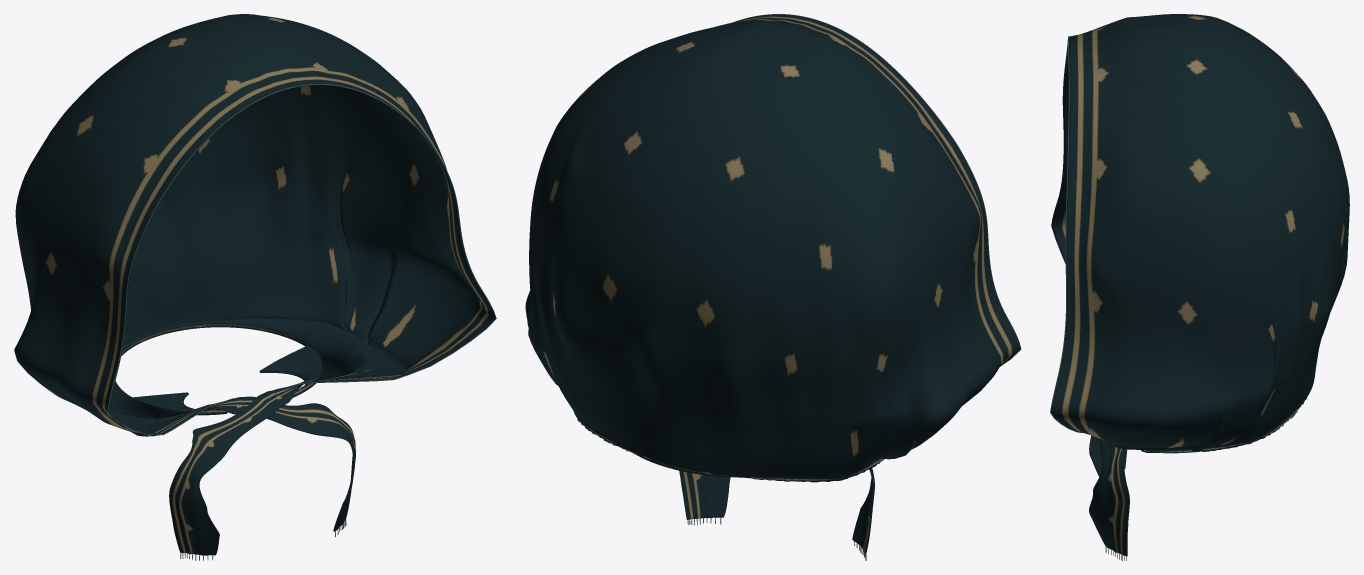
File: Feminine-side-sweep-bandeau-pashmina249-headgear.glb
3 views of the same model, side by side, from view 1: azimuth 30°, elevation 25°; view 2: azimuth 150°, elevation 25°; view 3: azimuth 270°, elevation 25° (orthographic). The views are drawn at different scales.
Parts seen in each view (by area): view 1: 226 headgear / Headwear / continuous woven pashmina239, 226 headgear / Headwear / face edge239; view 2: 226 headgear / Headwear / continuous woven pashmina239, 226 headgear / Headwear / face edge239; view 3: 226 headgear / Headwear / continuous woven pashmina239, 226 headgear / Headwear / face edge239.
Boxes of the visible parts, x1=… form: 226 headgear / Headwear / continuous woven pashmina239: x1=14, y1=14, x2=495, y2=555; 226 headgear / Headwear / face edge239: x1=107, y1=84, x2=496, y2=435; 226 headgear / Headwear / continuous woven pashmina239: x1=525, y1=14, x2=1020, y2=554; 226 headgear / Headwear / face edge239: x1=732, y1=14, x2=1021, y2=365; 226 headgear / Headwear / continuous woven pashmina239: x1=1051, y1=14, x2=1349, y2=556; 226 headgear / Headwear / face edge239: x1=1050, y1=36, x2=1081, y2=432.
Bounding box in the file's own units: 1.23 × 1.41 × 0.7789.
3 materials, 1 textured.
